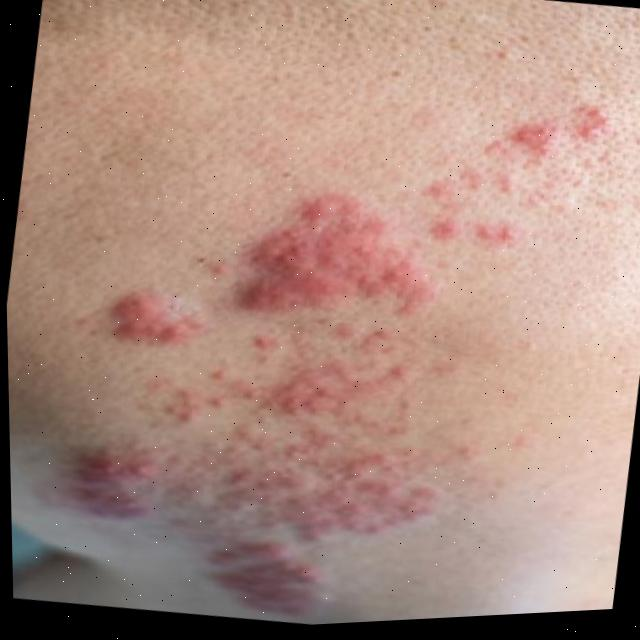Shingles: (39, 34, 618, 638)
